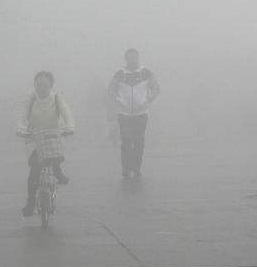person: (16, 70, 75, 227), (107, 47, 161, 186)
